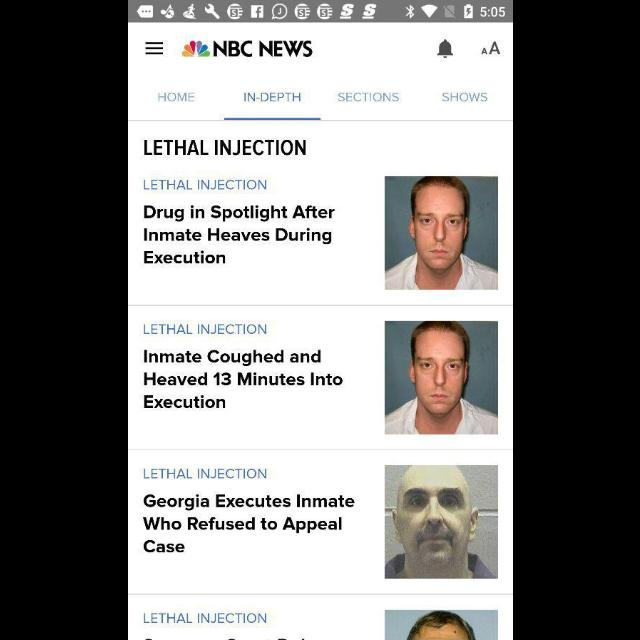icon: (436, 40, 454, 59), (144, 42, 164, 56)
image: (384, 176, 498, 290), (384, 466, 498, 578), (384, 322, 498, 434), (384, 610, 498, 640), (182, 42, 312, 58), (480, 42, 500, 56)
text: (142, 493, 354, 552), (144, 349, 342, 408), (143, 206, 334, 264), (143, 140, 304, 156), (142, 612, 266, 624), (142, 468, 266, 479), (142, 324, 266, 334), (142, 180, 266, 190), (338, 94, 398, 102), (243, 94, 300, 102), (442, 92, 486, 101), (158, 92, 195, 101)
uppertaskbar: (128, 1, 512, 23)
